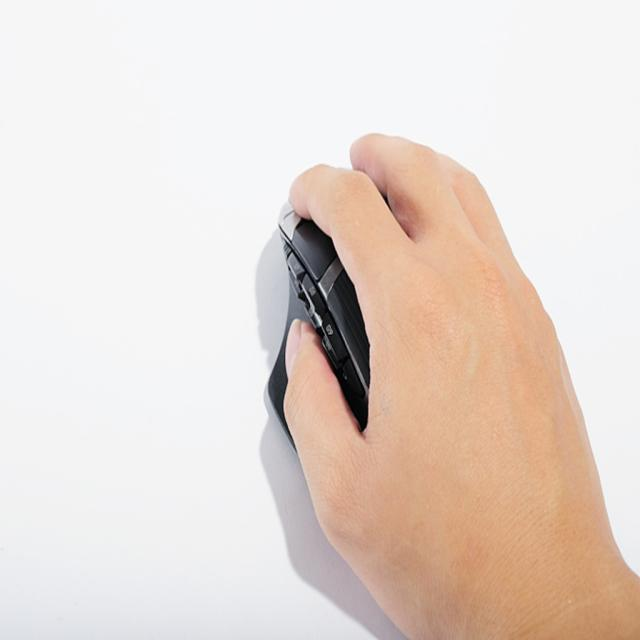Computer-mouse: (265, 194, 373, 460)
